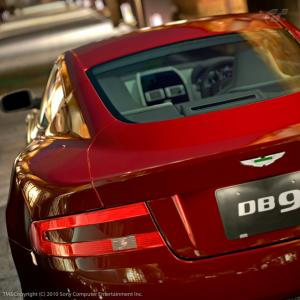Vehicle-registration-plate: (215, 173, 300, 242)
